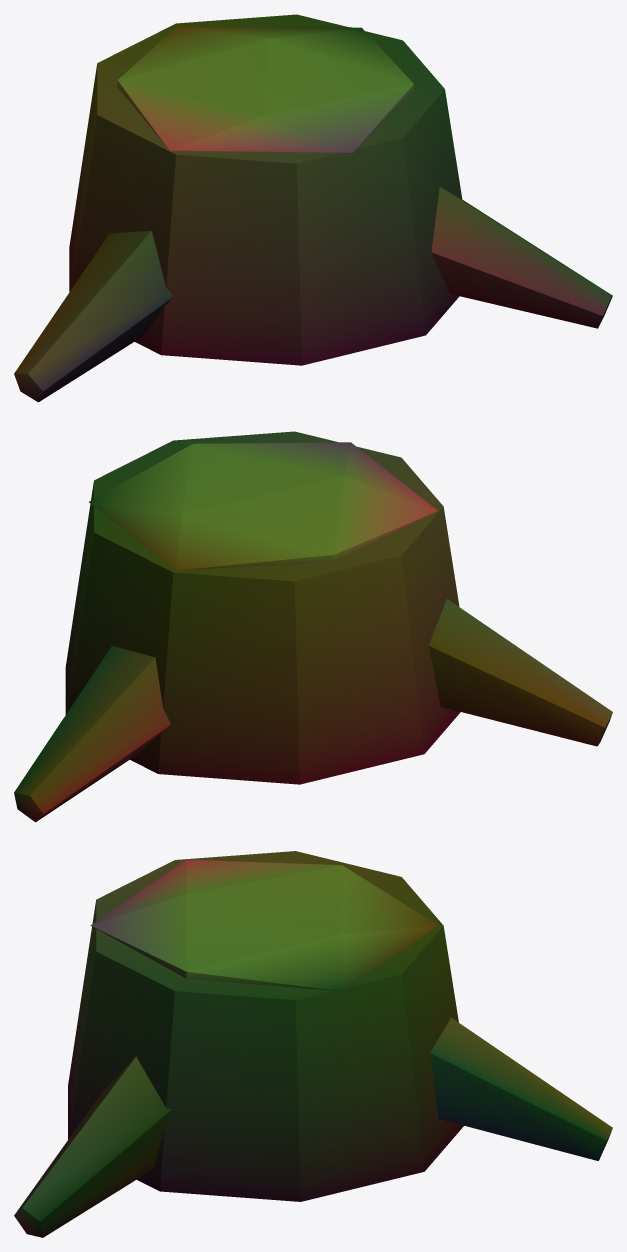
File: Stump.fbx
3 views of the same model, one above another, from view 1: azimuth 30°, elevation 25°; view 2: azimuth 150°, elevation 25°; view 3: azimuth 270°, elevation 25° (orthographic).
Visible parts, largest first — view 1: Stump; view 2: Stump; view 3: Stump.
Boxes of the visible parts, x1,y1,x2,y2 form: Stump: (14,14,612,402); Stump: (14,431,612,822); Stump: (14,851,612,1237).
Bounding box in the file's own units: 1.23 × 0.4823 × 1.2.
